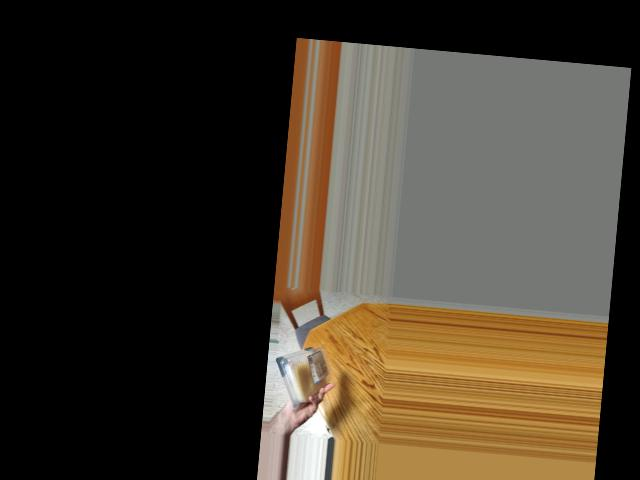cheese: (280, 344, 327, 405)
